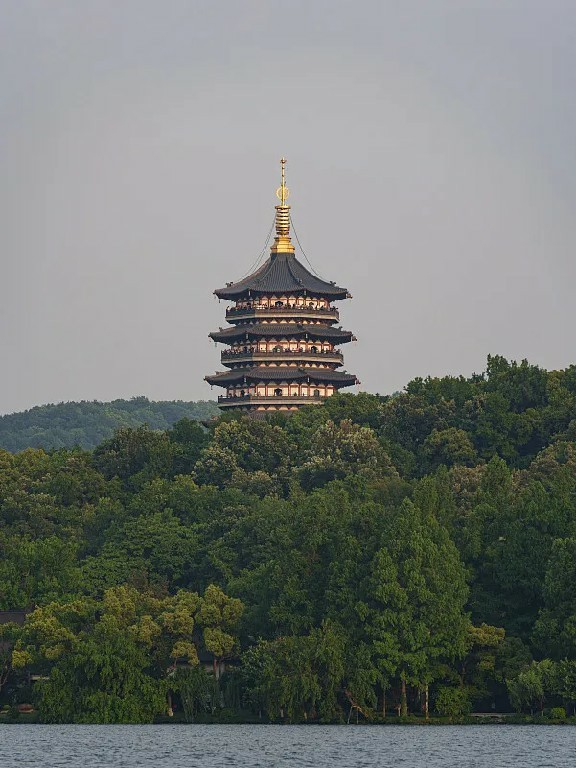Leifeng: (202, 157, 361, 428)
